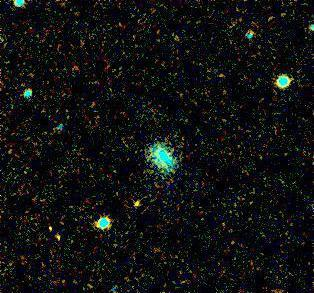star: (120, 189, 150, 219)
